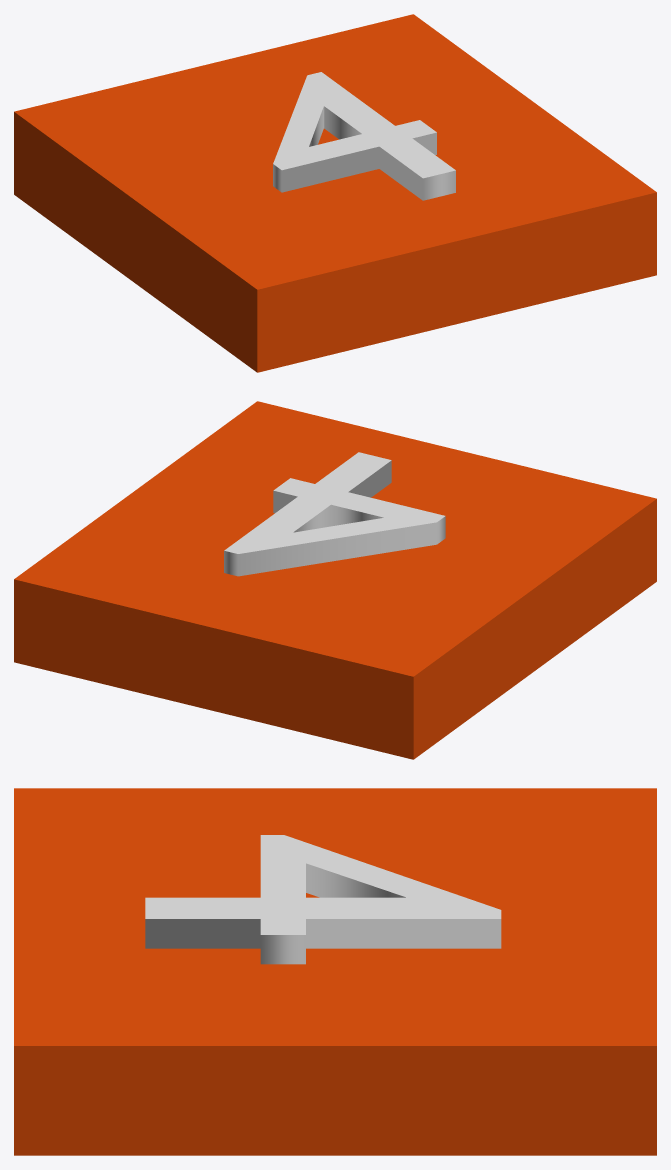
3 renders of one model, top to bottom at view 1: azimuth 30°, elevation 25°; view 2: azimuth 150°, elevation 25°; view 3: azimuth 270°, elevation 25°, orthographic. The views are drawn at different scales.
Visible parts, largest first — view 1: Куб, Текст; view 2: Куб, Текст; view 3: Куб, Текст.
Part boxes in pixels (x1,y1,x2,y2): Куб: (14, 14, 656, 372); Текст: (273, 72, 455, 200); Куб: (14, 401, 656, 759); Текст: (224, 452, 445, 576); Куб: (14, 788, 656, 1155); Текст: (145, 835, 501, 964).
Size of the model in its own units: 118 by 29.82 by 125.
